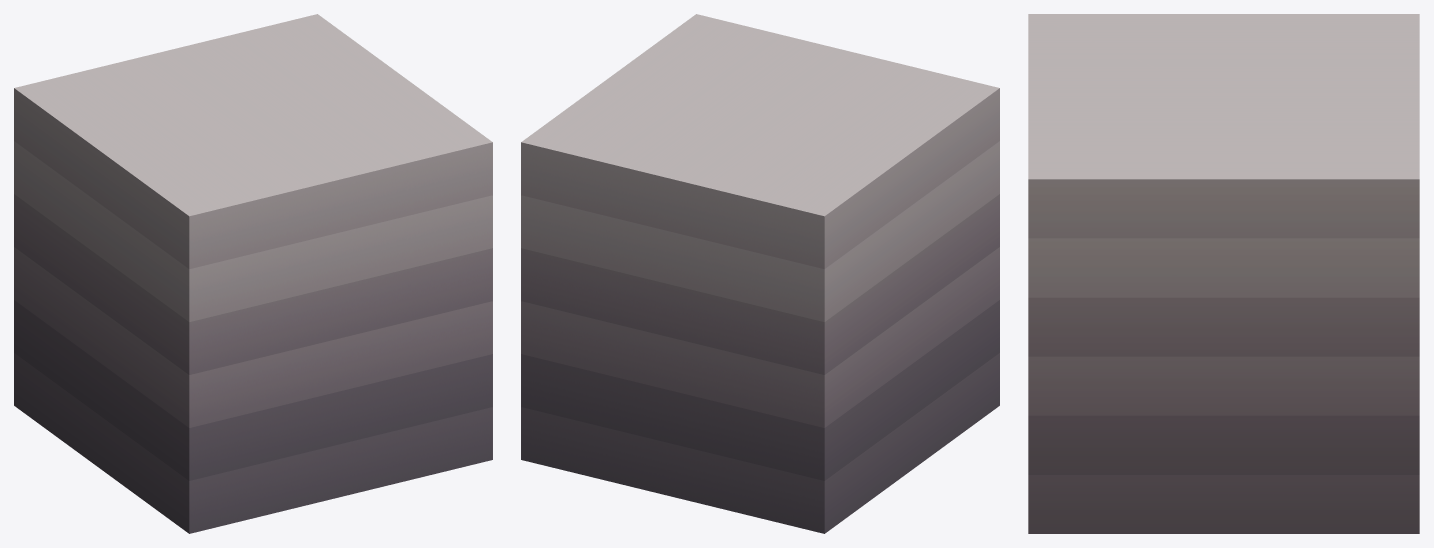
Rendered from Metal_Box.FBX.
3 renders of one model, left to right at view 1: azimuth 30°, elevation 25°; view 2: azimuth 150°, elevation 25°; view 3: azimuth 270°, elevation 25°, orthographic. The views are drawn at different scales.
Visible parts, largest first — view 1: Metal_Box; view 2: Metal_Box; view 3: Metal_Box.
Boxes of the visible parts, <box> form: Metal_Box: <box>14,14,492,533</box>; Metal_Box: <box>521,14,999,533</box>; Metal_Box: <box>1028,14,1419,533</box>.
Bounding box in the file's own units: 0.5 × 0.5 × 0.5.
Materials: 1 (1 with a texture image).
